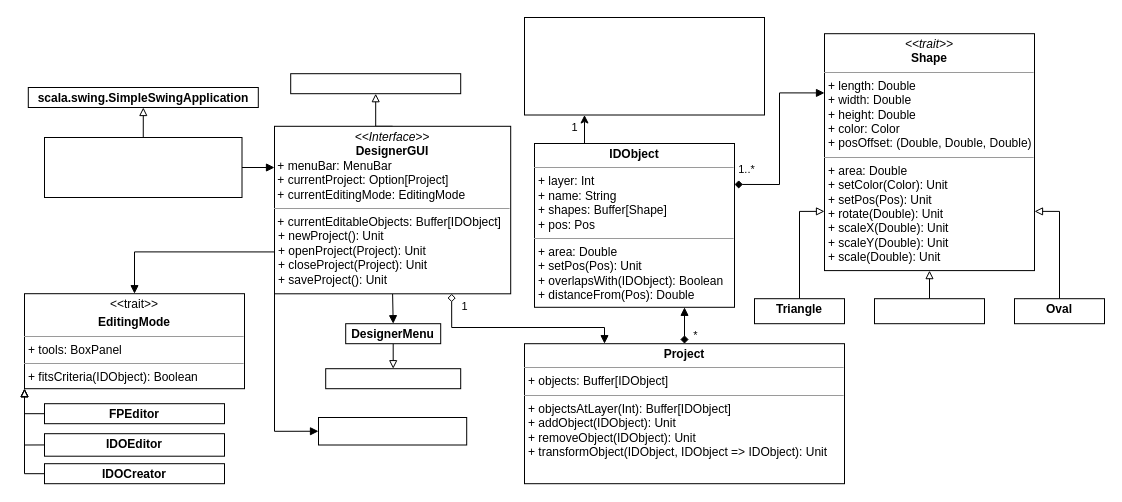
Image size: 1122x502. Some labels were removed from this diagram. The shapes that lost their labels are listed below. From the top down, each one's centre as x and y in pixels, then its label:
(x=375, y=83): scala.swing.MainFrame
(x=644, y=65): Pos + x: Double + y: Double + z: Double + offsetPos(Double, Double, Double): Pos
(x=143, y=167): <<Interface>> Designer + top: MainFrame
(x=929, y=311): Rectangle
(x=393, y=378): scala.swing.MenuBar
(x=392, y=430): FloorplanReader
